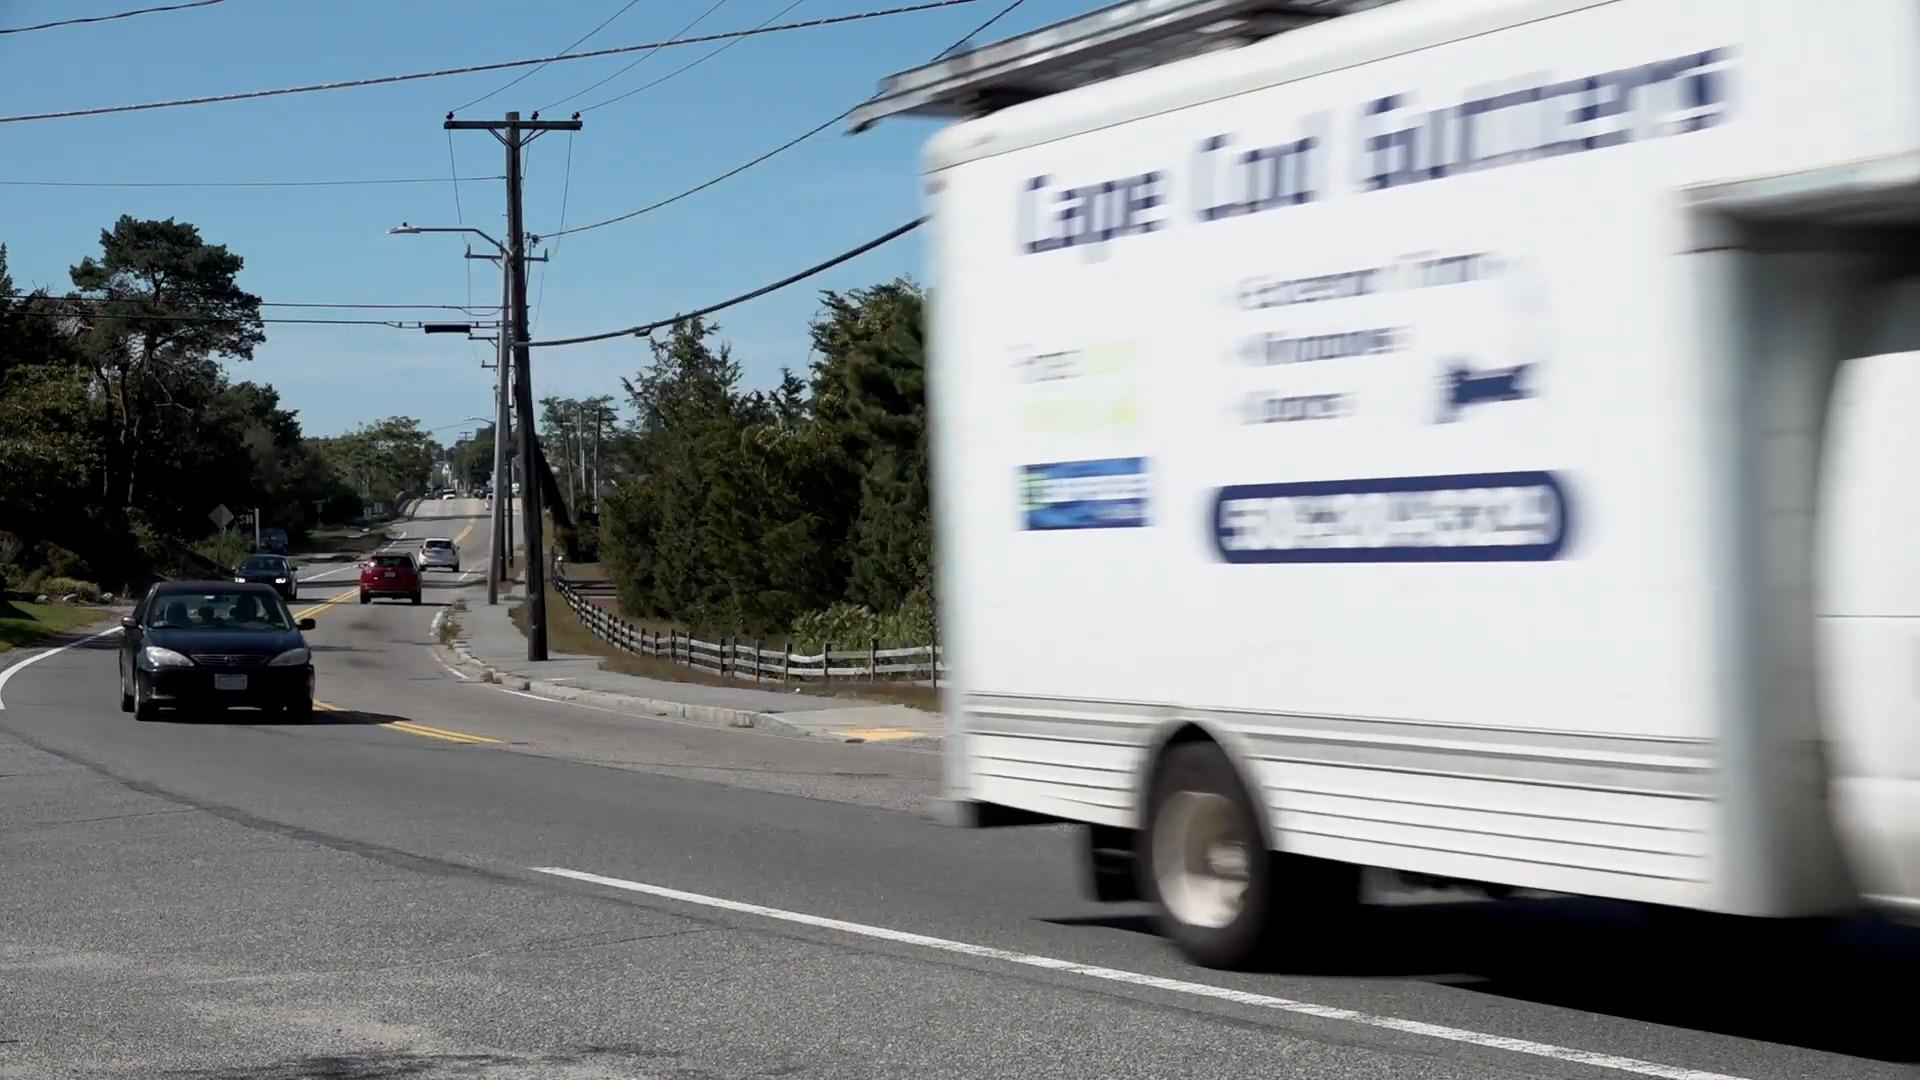sedans: (117, 575, 319, 721)
truck: (907, 1, 1920, 982)
